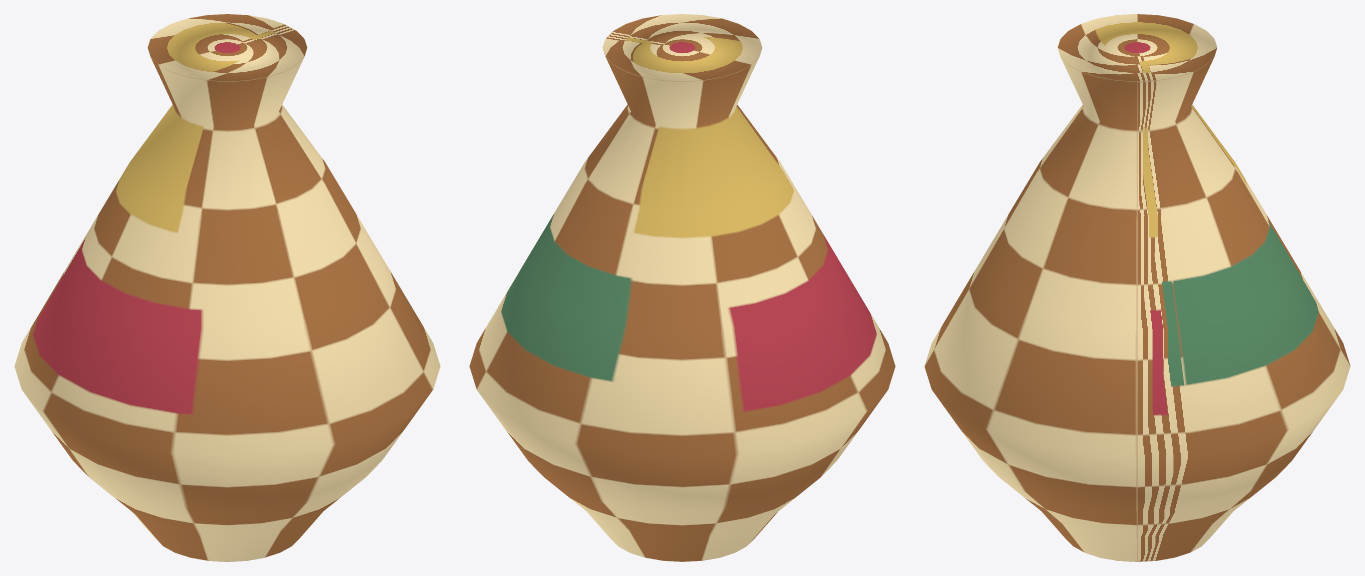
File: museum-vase-preview.glb
The picture shows the model from 3 angles, left to right: view 1: azimuth 30°, elevation 25°; view 2: azimuth 150°, elevation 25°; view 3: azimuth 270°, elevation 25°; orthographic projection.
Size of the model in its own units: 0.8 by 1 by 0.8.
1 material, 1 textured.
